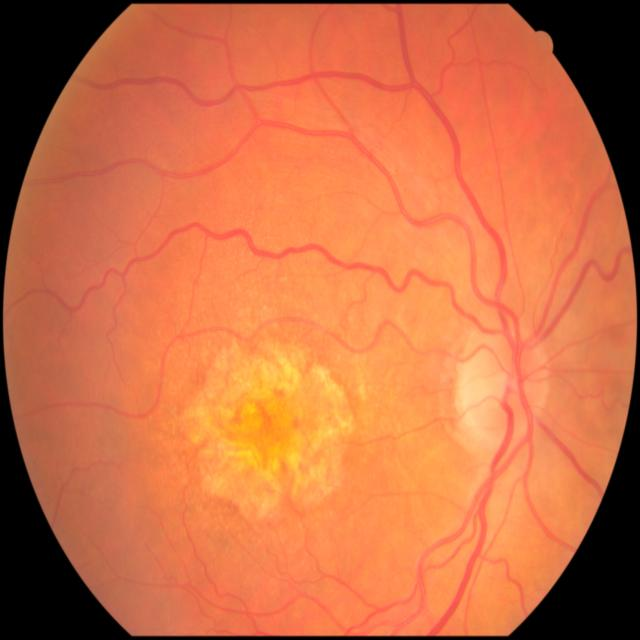OD: (460, 330, 551, 436)
